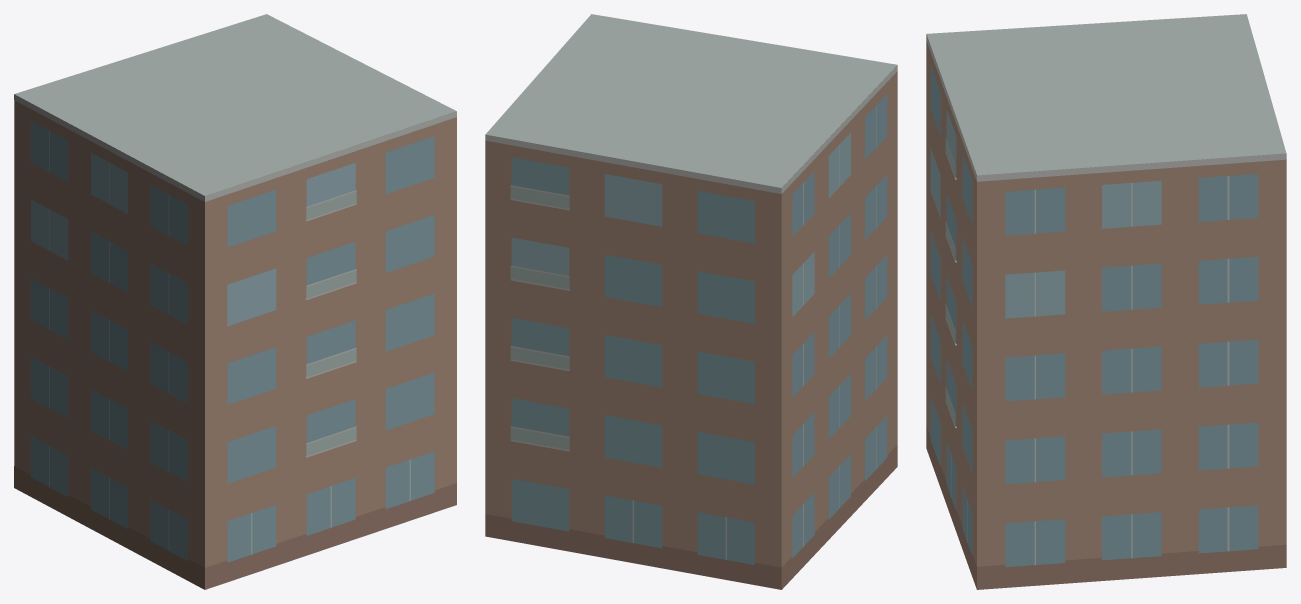
File: survey-upis-32532695.glb
3 renders of one model, left to right at view 1: azimuth 30°, elevation 25°; view 2: azimuth 150°, elevation 25°; view 3: azimuth 270°, elevation 25°, orthographic. The views are drawn at different scales.
Visible parts, largest first — view 1: survey-upis-32532695.tmp; view 2: survey-upis-32532695.tmp; view 3: survey-upis-32532695.tmp.
Part boxes in pixels (left/top/right/bottom): survey-upis-32532695.tmp: left=14, top=14, right=456, bottom=589; survey-upis-32532695.tmp: left=485, top=14, right=897, bottom=589; survey-upis-32532695.tmp: left=926, top=14, right=1286, bottom=589.
Size of the model in its own units: 13.55 by 16.2 by 12.77.
